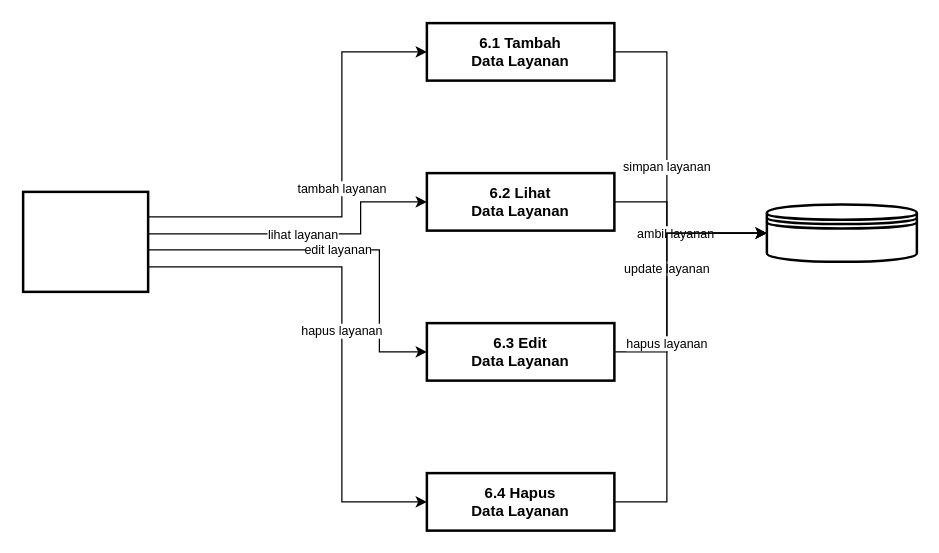
Image size: 939x553. Some labels were removed from this diagram. Each missing label, with the centre of its shape:
"ADMIN" belongs at pixel 85 241.
"DS6 DataLayanan" belongs at pixel 841 232.
